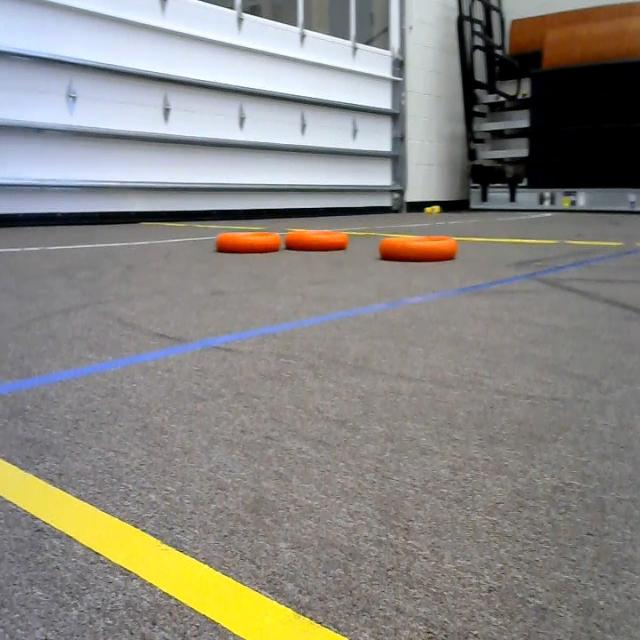note: (212, 218, 282, 264), (378, 220, 460, 259), (278, 216, 355, 256)
